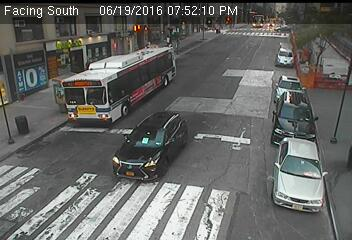neg: (106, 29, 122, 51), (211, 23, 222, 37), (133, 24, 142, 36)
